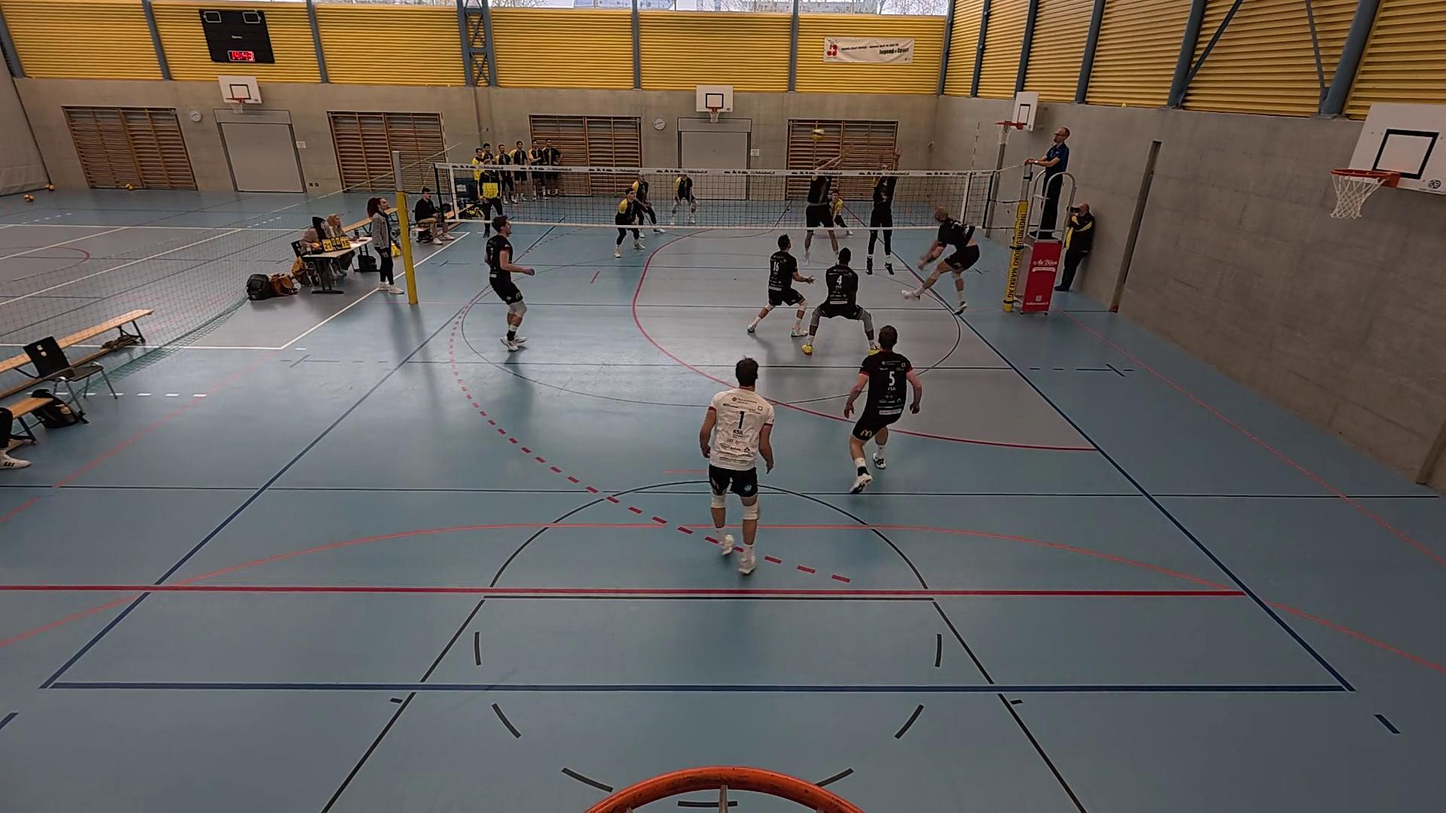attacco: (899, 200, 983, 312)
muro: (798, 144, 849, 269), (861, 142, 903, 281)
